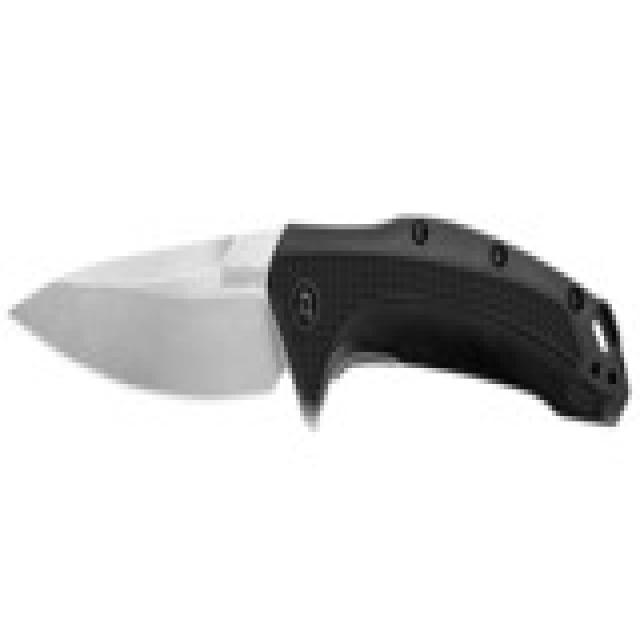Knife: (3, 208, 629, 440)
